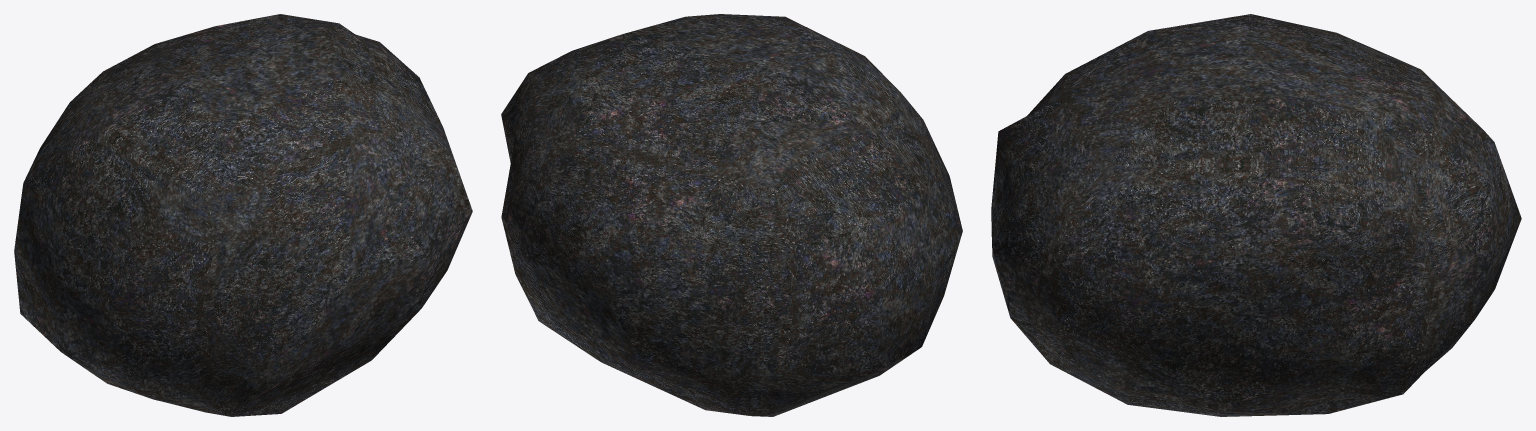
Rendered from asteroid_metal_small_s01_l1.fbx.
3 views of the same model, side by side, from view 1: azimuth 30°, elevation 25°; view 2: azimuth 150°, elevation 25°; view 3: azimuth 270°, elevation 25° (orthographic). The views are drawn at different scales.
Parts seen in each view (by area): view 1: mesh_node; view 2: mesh_node; view 3: mesh_node.
Boxes of the visible parts, x1,y1,x2,y2 form: mesh_node: (14, 14, 472, 416); mesh_node: (501, 14, 962, 416); mesh_node: (991, 14, 1521, 416).
Size of the model in its own units: 24.61 by 20.07 by 25.73.
